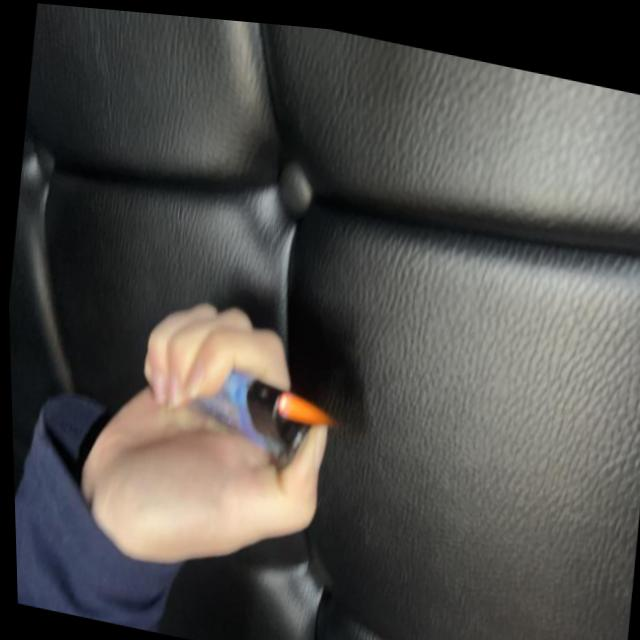Fire: (273, 379, 336, 426)
